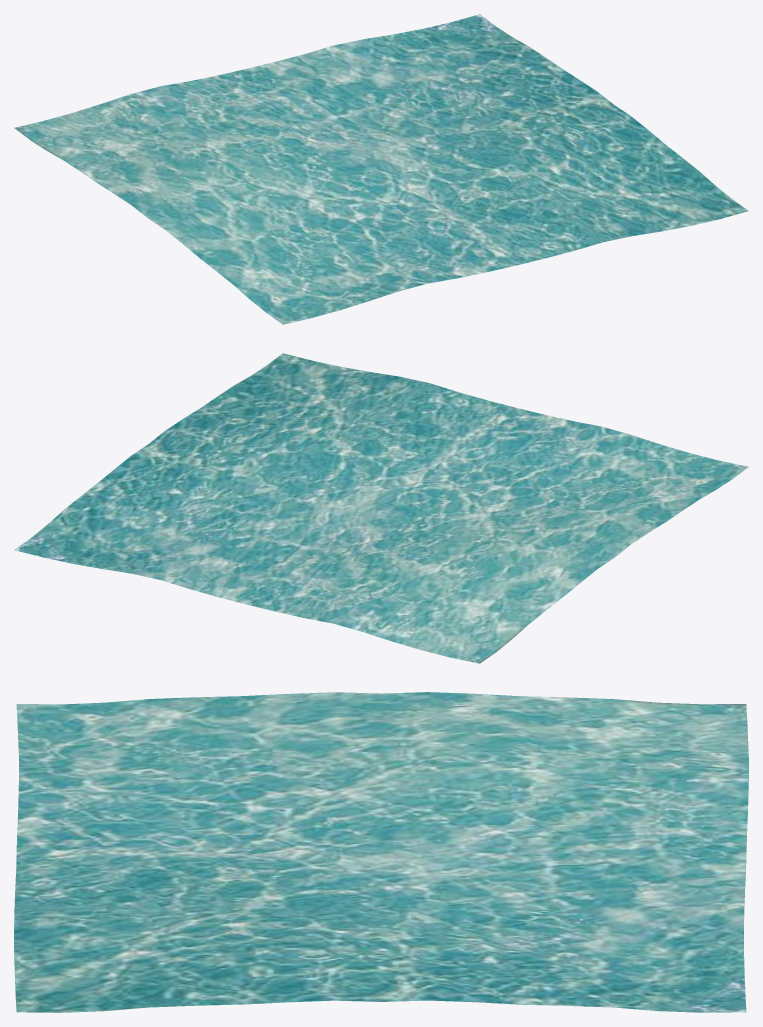
Rendered from water_000202.obj.
3 views of the same model, one above another, from view 1: azimuth 30°, elevation 25°; view 2: azimuth 150°, elevation 25°; view 3: azimuth 270°, elevation 25° (orthographic). The views are drawn at different scales.
Parts seen in each view (by area): view 1: Plan.003_Plan.001; view 2: Plan.003_Plan.001; view 3: Plan.003_Plan.001.
Boxes of the visible parts, x1=… form: Plan.003_Plan.001: x1=14, y1=14, x2=748, y2=324; Plan.003_Plan.001: x1=14, y1=353, x2=748, y2=663; Plan.003_Plan.001: x1=14, y1=692, x2=748, y2=1012.
Size of the model in its own units: 60371 by 1553 by 60756.
